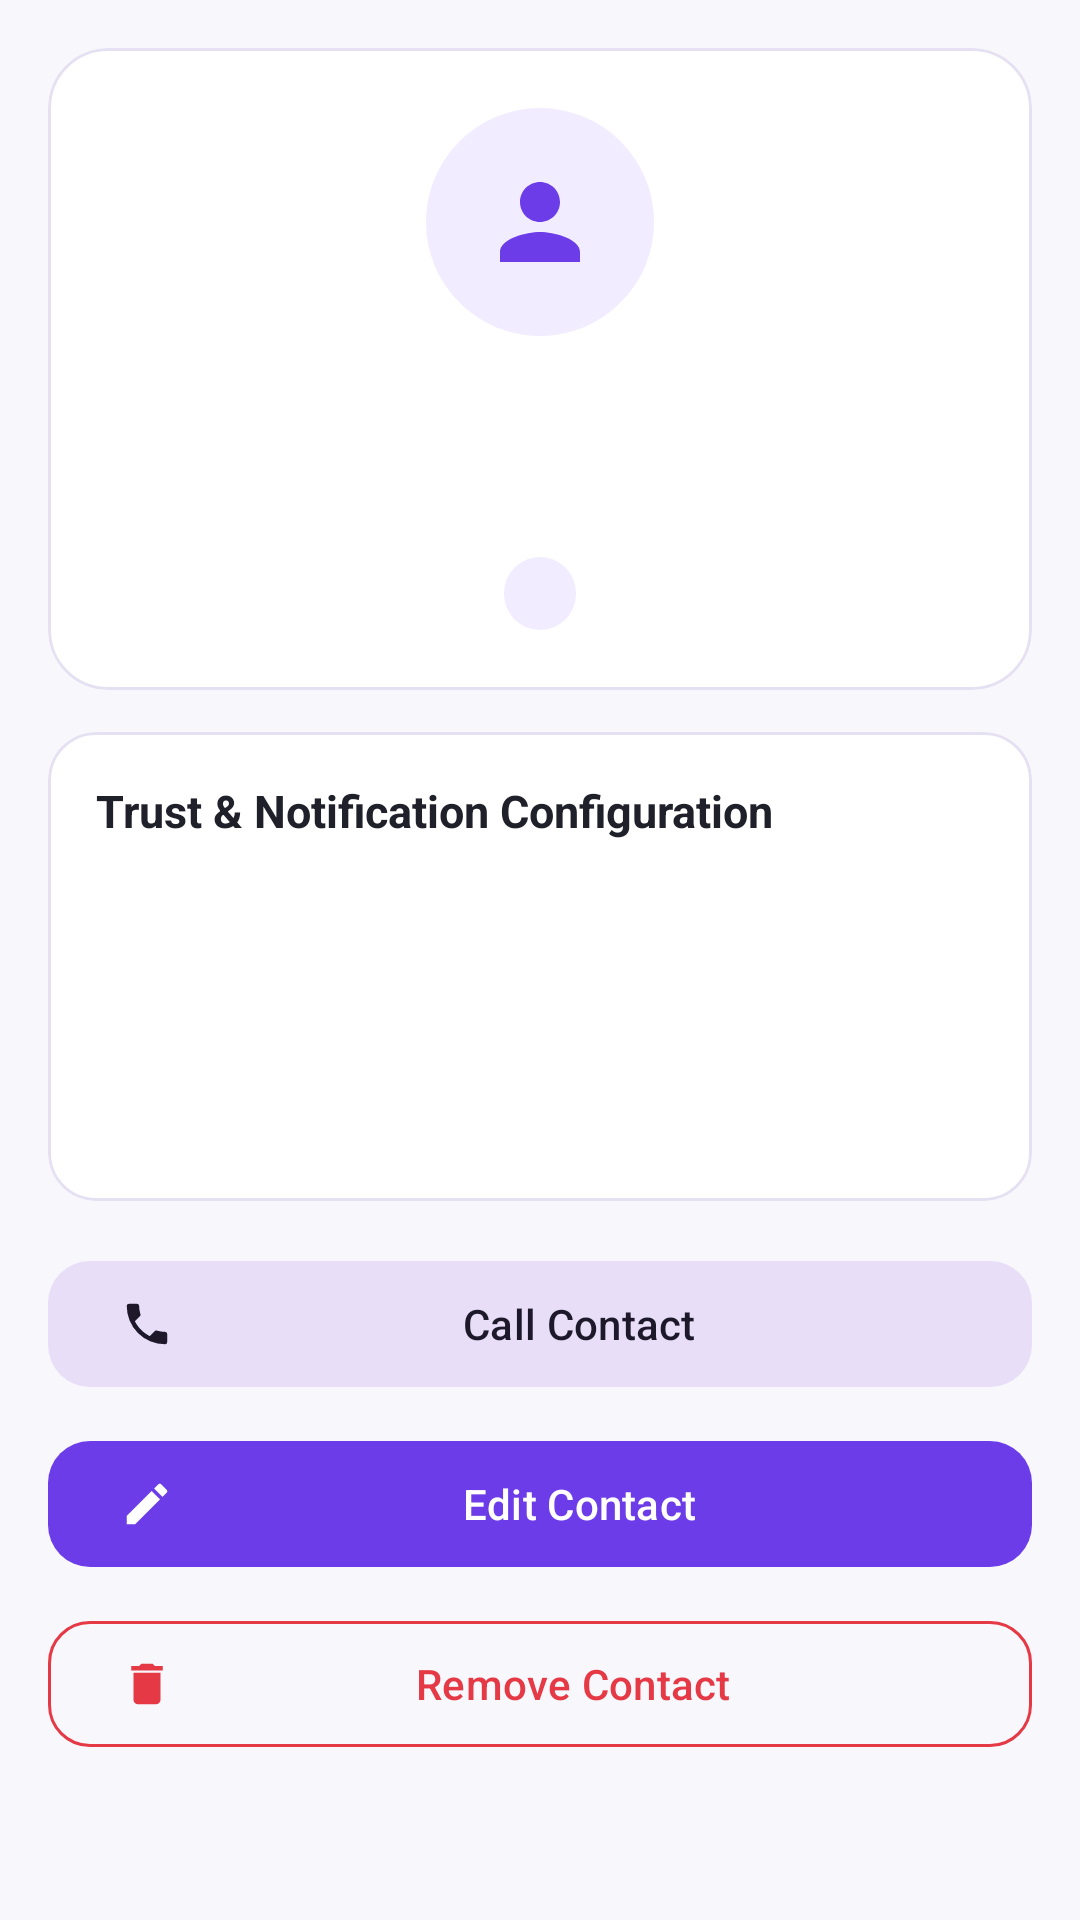

Locate icon controls on the screen. Image size 1080 x 1920, boxes as box(x1, y1, x2, y2).
Contact profile: box(500, 182, 580, 262)
